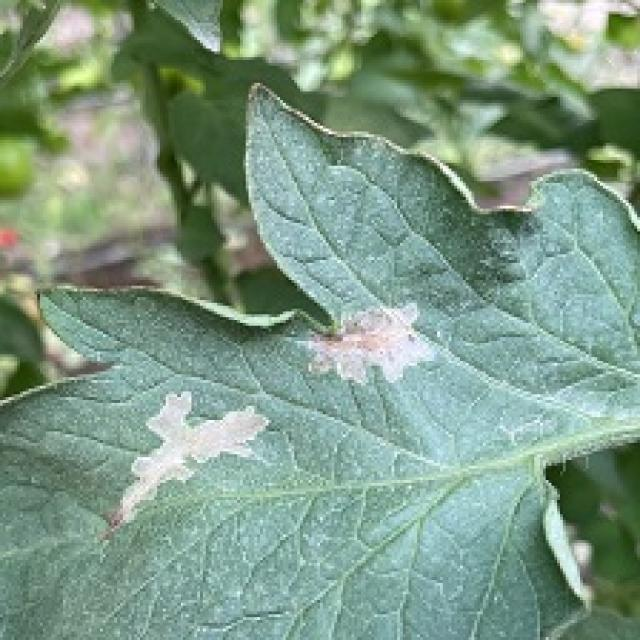Tuta absoluta: (110, 375, 267, 556), (302, 301, 434, 390)
